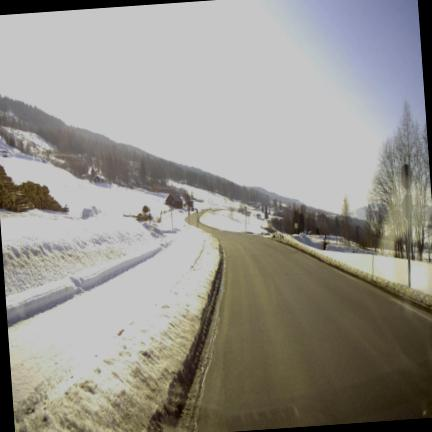Road: (196, 230, 431, 431)
